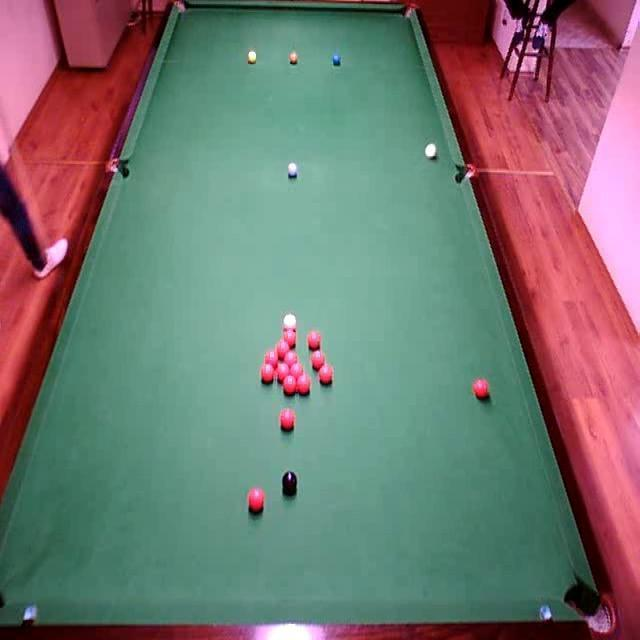Ball: (281, 470, 297, 499), (279, 407, 296, 432), (248, 488, 265, 511), (307, 331, 322, 351), (319, 365, 334, 384), (275, 364, 290, 382), (311, 352, 326, 370), (424, 140, 437, 160), (284, 376, 297, 396), (297, 374, 310, 394), (285, 351, 299, 369), (261, 364, 274, 383), (276, 341, 289, 360), (264, 351, 279, 367), (474, 379, 487, 397), (283, 331, 296, 348), (283, 317, 296, 332), (291, 363, 303, 377), (288, 162, 299, 177), (289, 52, 298, 65), (333, 52, 342, 65), (248, 51, 256, 63)
